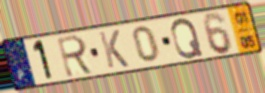0: (131, 24, 163, 65)
1: (30, 38, 56, 83)
6: (202, 11, 234, 56)
K: (97, 29, 131, 70)
Q: (170, 17, 206, 61)
R: (55, 33, 96, 79)
